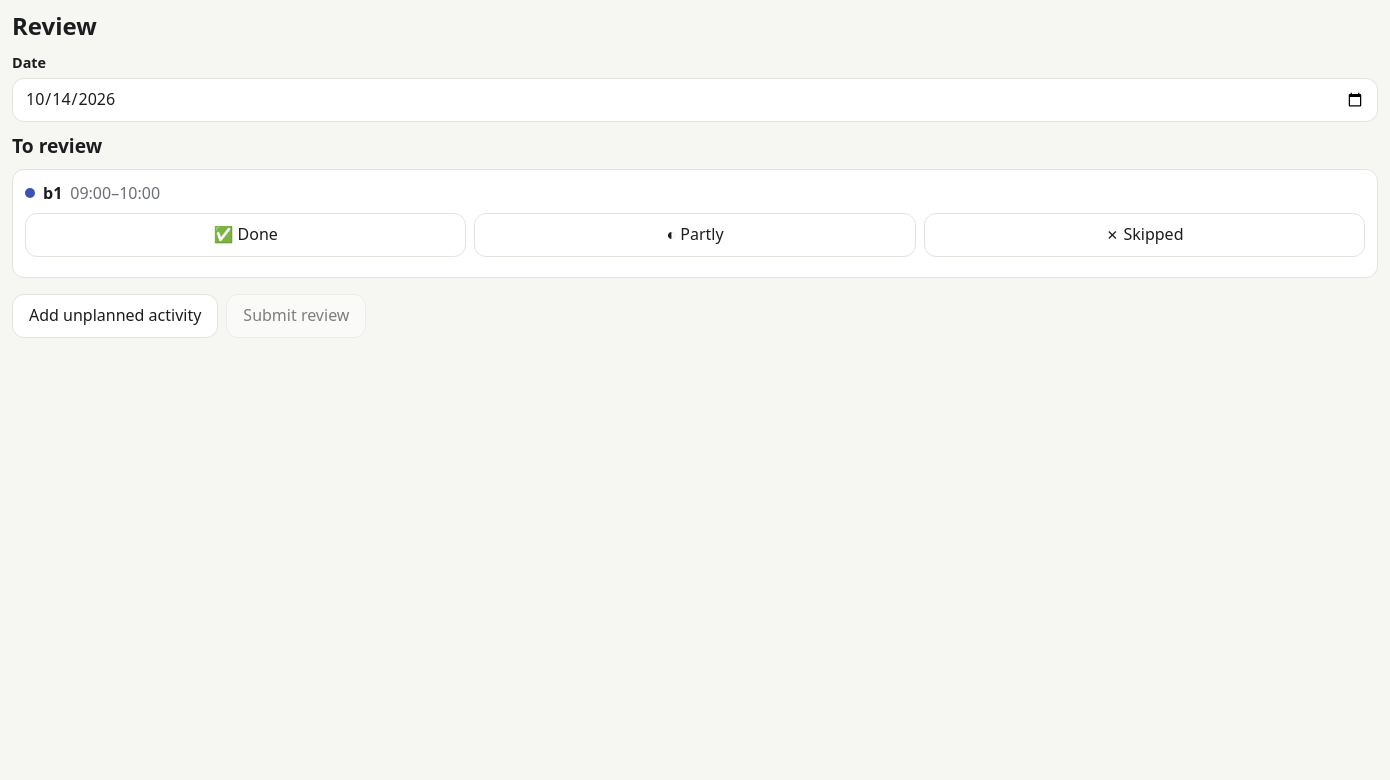
Test: ReviewPage › after submit shows totals vs goals
Click the button "✗ Skipped" at (1144, 235), box [924,213,1365,257]
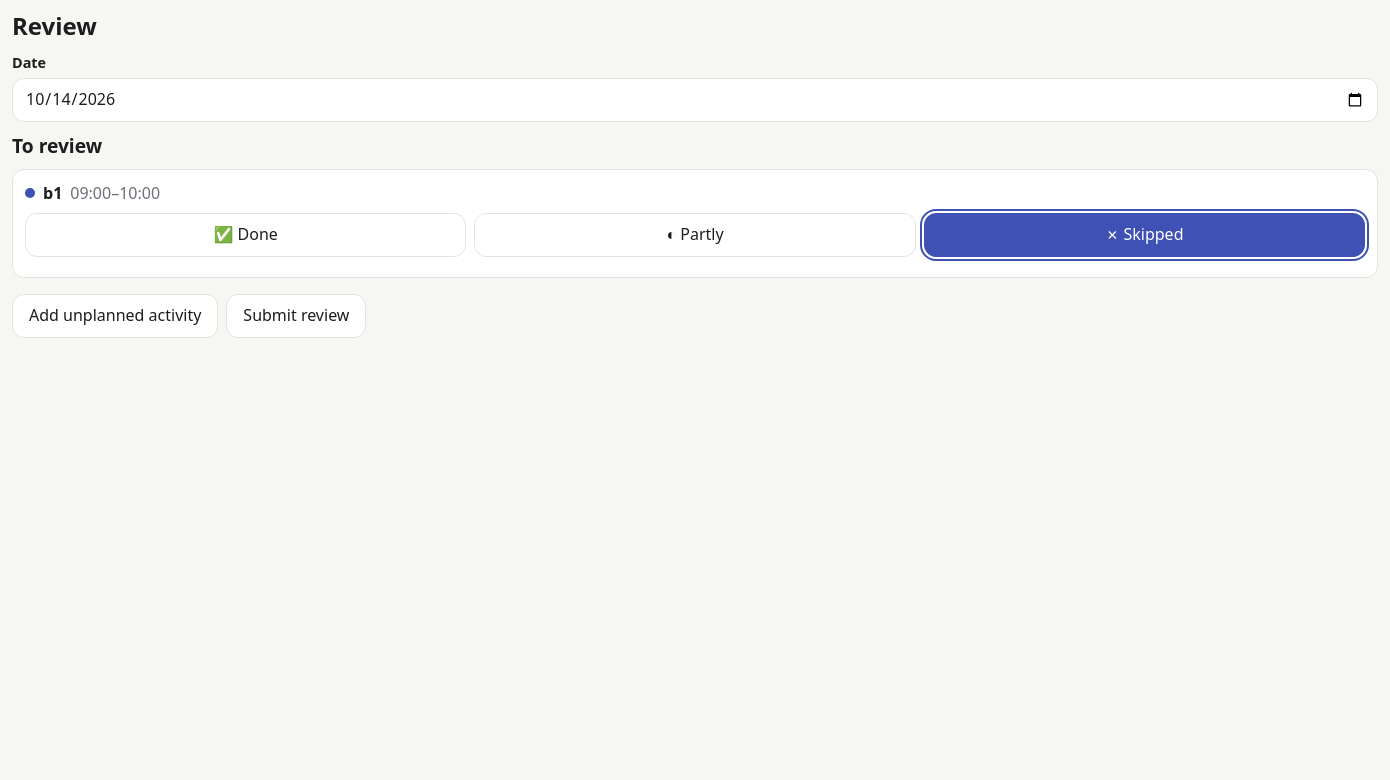
Click the button "Submit review" at (296, 316), box [226,294,366,338]
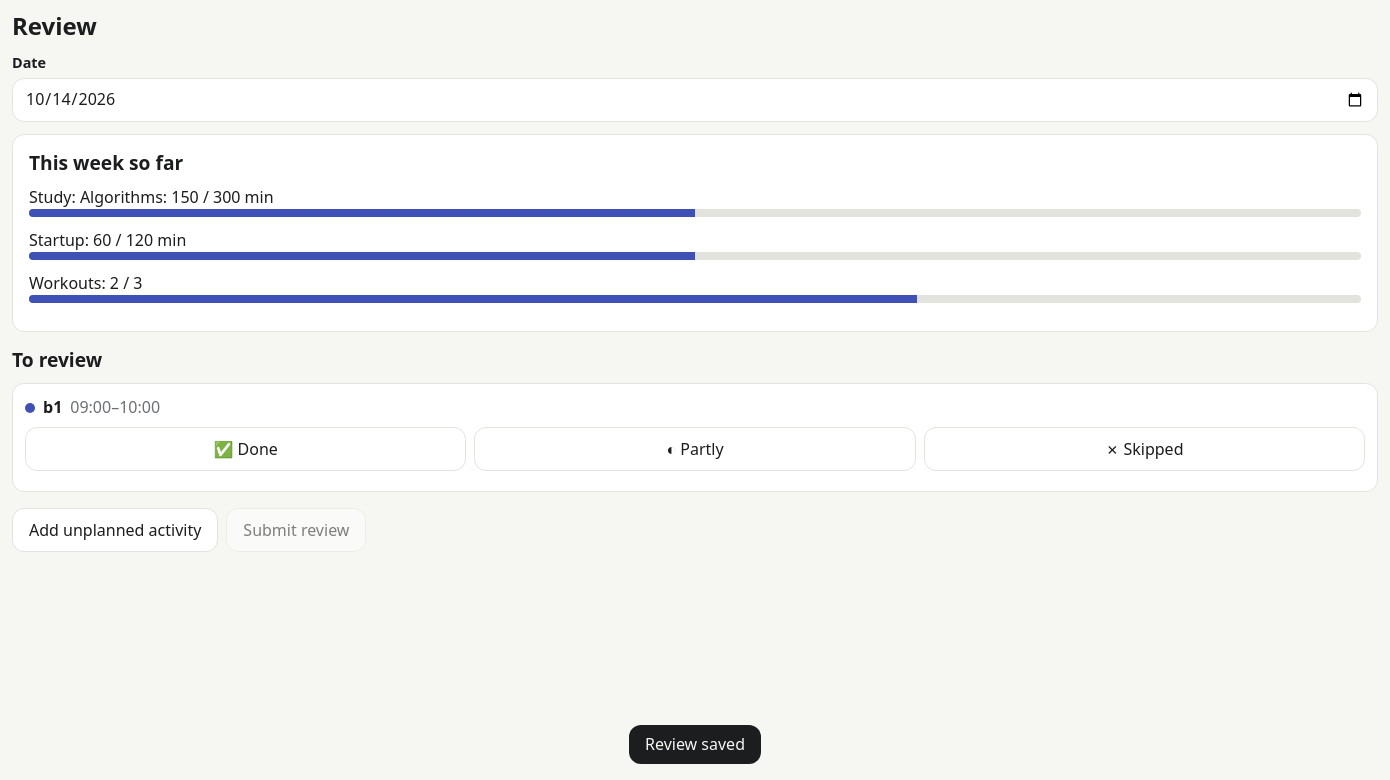
Now the text "Study: Algorithms: 150 / 300 min" is shown, box [29,186,274,208]
Now the text "Startup: 60 / 120 min" is shown, box [29,229,186,251]
Now the text "Workouts: 2 / 3" is shown, box [29,272,142,294]
